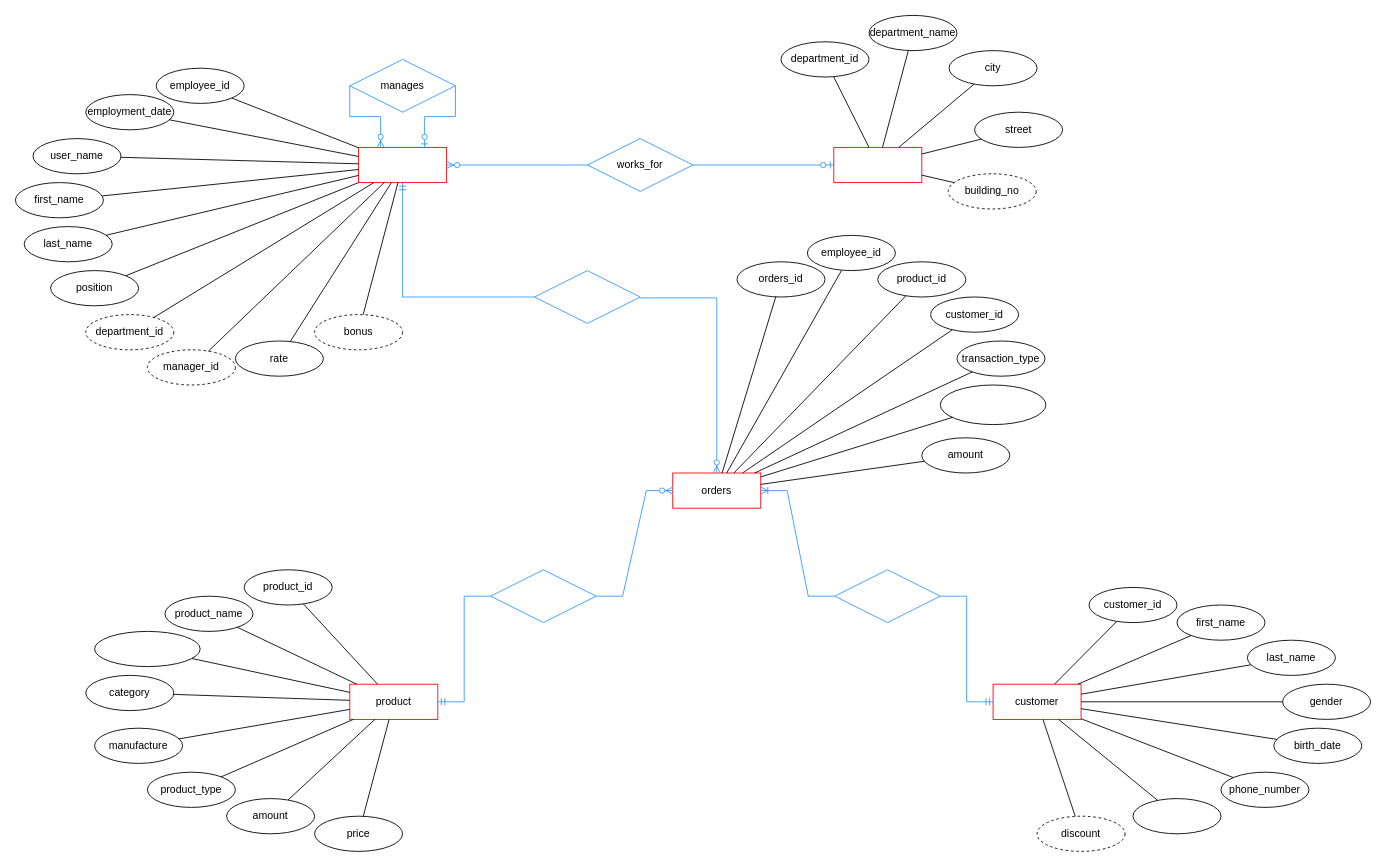
This 1386x867 diagram has some shape labels left out. The shapes that lost their labels are listed below. From the top down, each one's centre as x and y in pixels, then its label:
At pixel 402 165: "employee".
At pixel 877 165: "departament".
At pixel 587 296: "places".
At pixel 992 404: "transaction_moment".
At pixel 543 596: "sells".
At pixel 887 596: "buys".
At pixel 147 649: "product_description".
At pixel 1176 816: "email".
